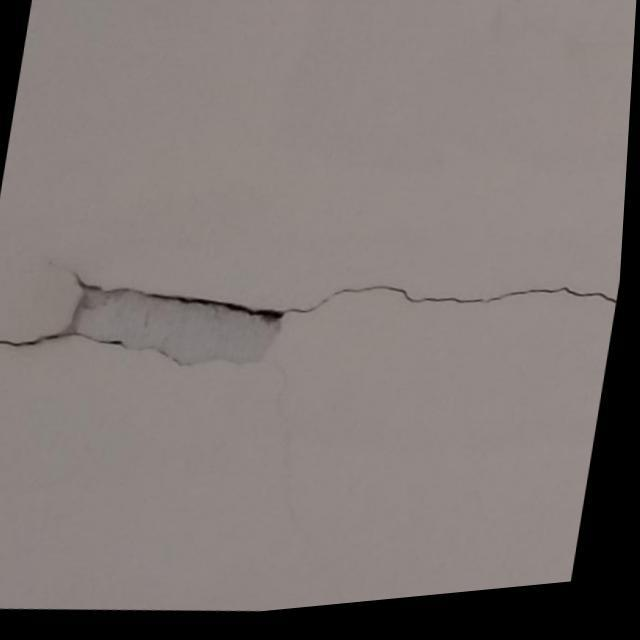Crack: (0, 261, 606, 346)
